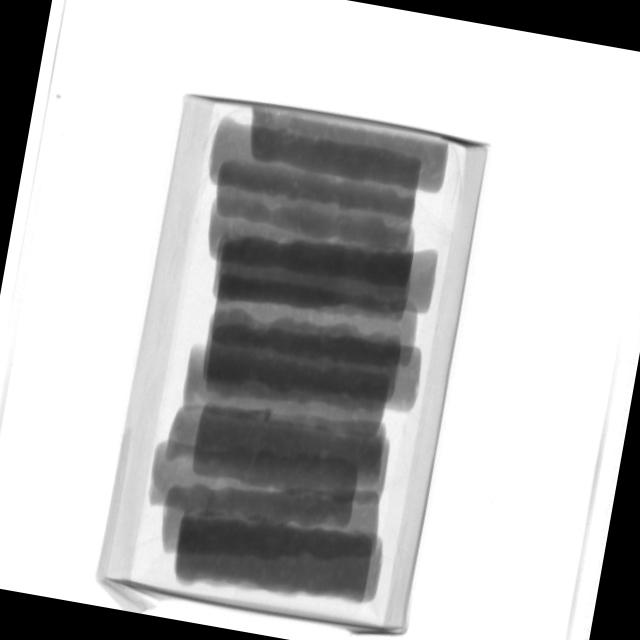ym: (263, 407, 275, 424)
